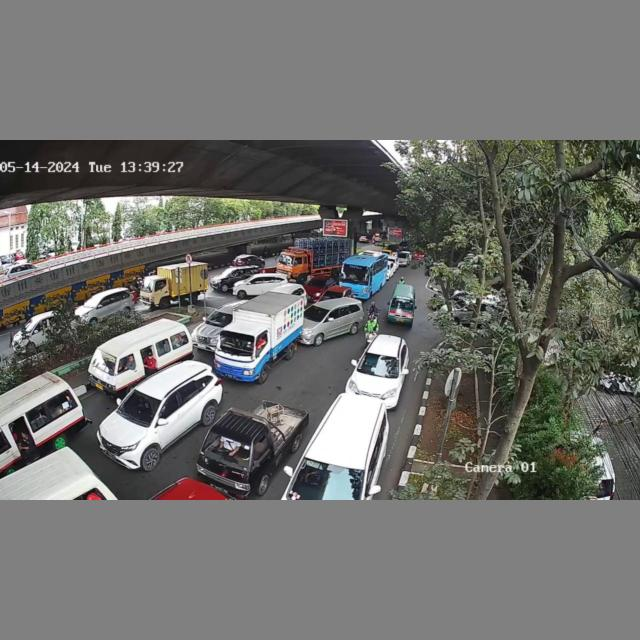windshield: (201, 433, 252, 469), (117, 388, 162, 427), (216, 333, 269, 352), (360, 353, 400, 376), (88, 349, 121, 376), (303, 304, 328, 322), (390, 296, 414, 314), (206, 310, 234, 325)
